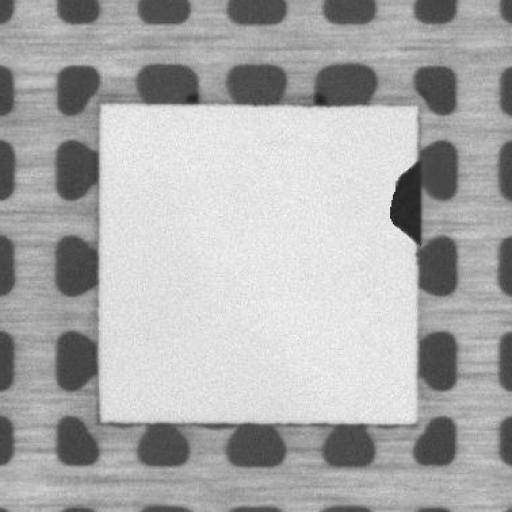DIE_BROKEN: (389, 157, 421, 246)
